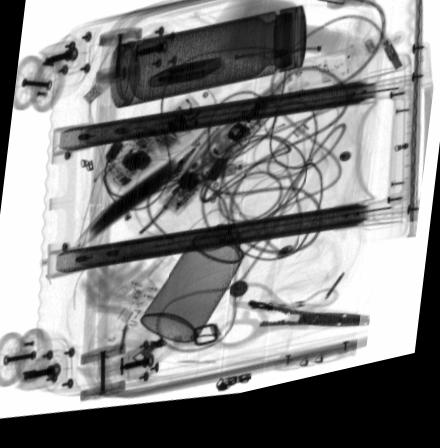Lighter: (148, 67, 221, 95)
Powerbank: (71, 160, 188, 254)
Scissors: (138, 222, 263, 353), (211, 293, 373, 360)
